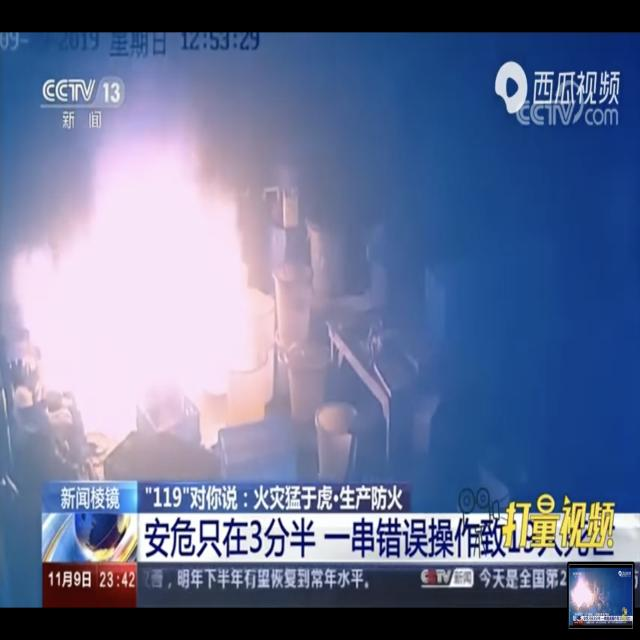Fogo: (24, 143, 312, 442)
